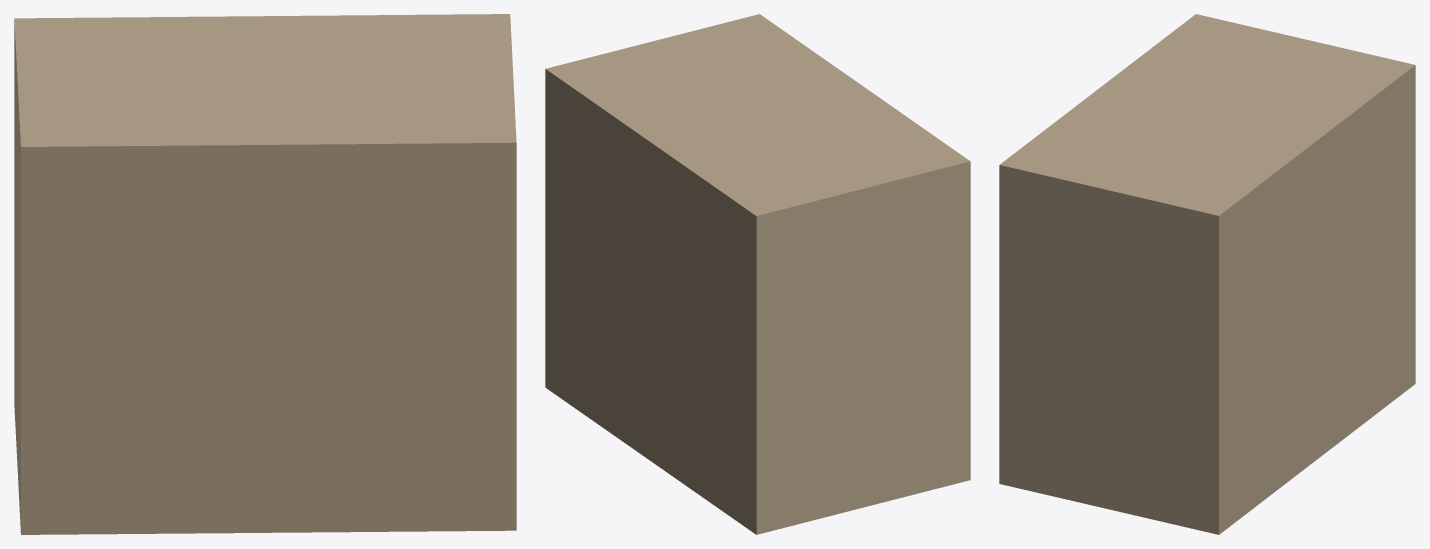
The model's file is bld_101791683.dae.
3 renders of one model, left to right at view 1: azimuth 30°, elevation 25°; view 2: azimuth 150°, elevation 25°; view 3: azimuth 270°, elevation 25°, orthographic. The views are drawn at different scales.
Visible parts, largest first — view 1: bld_101791683; view 2: bld_101791683; view 3: bld_101791683.
Part boxes in pixels (x1=…): bld_101791683: x1=14, y1=14, x2=516, y2=534; bld_101791683: x1=545, y1=14, x2=970, y2=534; bld_101791683: x1=999, y1=14, x2=1415, y2=534.
Bounding box in the file's own units: 10.86 × 9.46 × 8.
